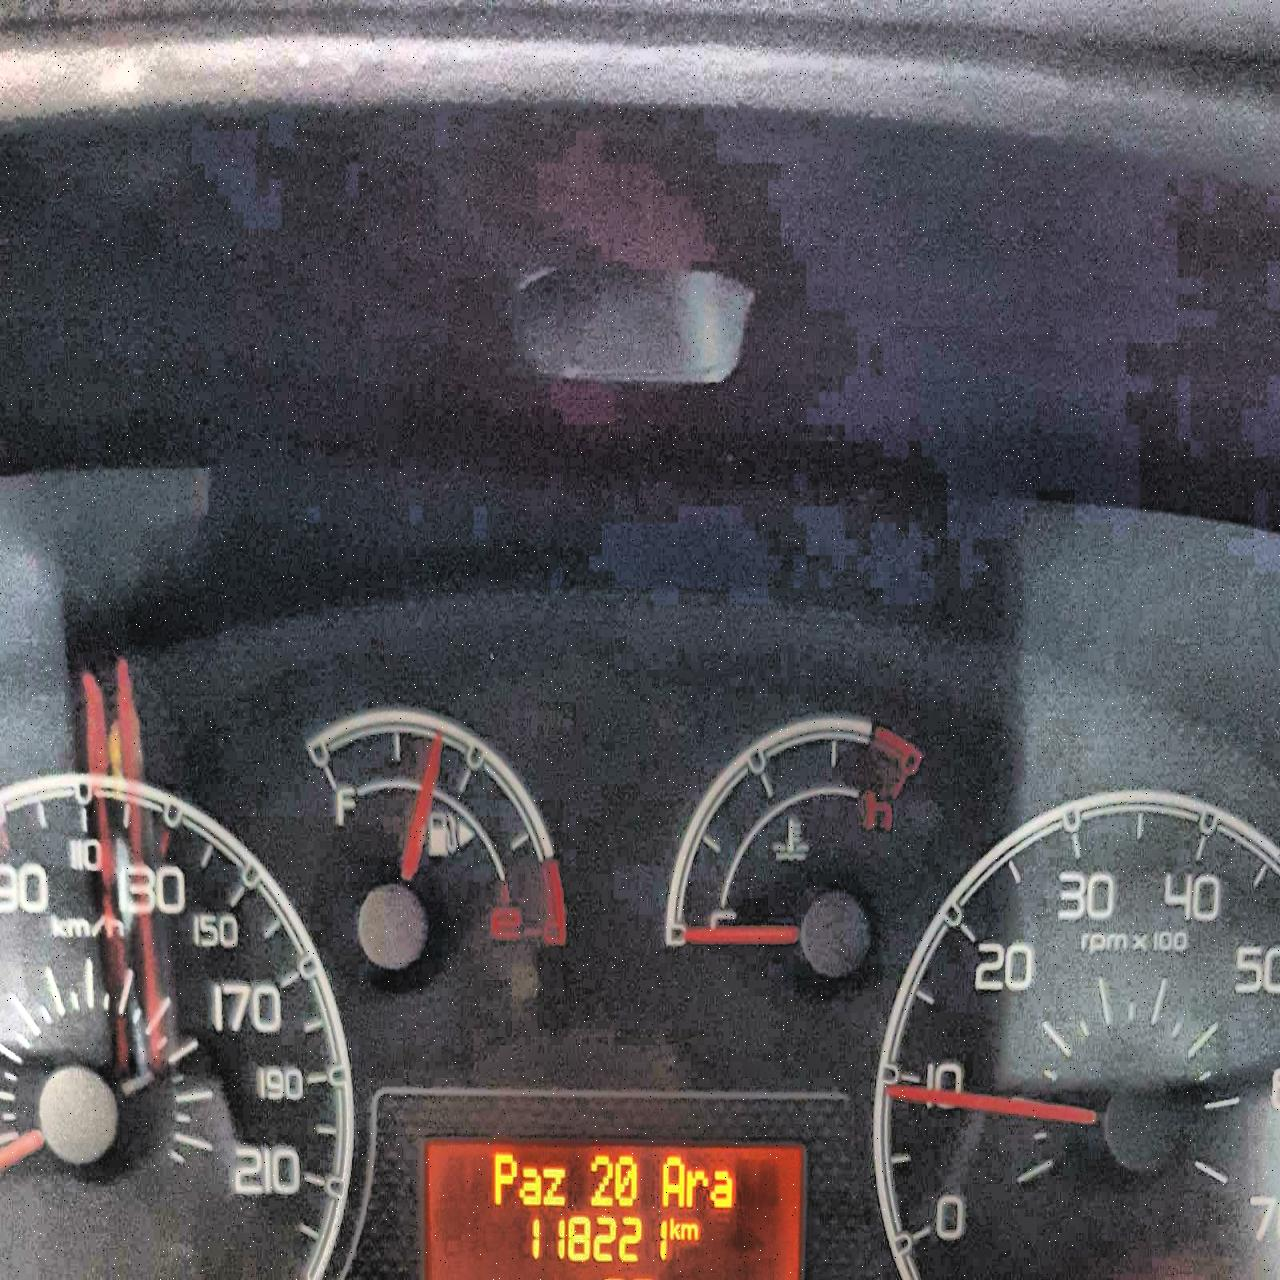0: (614, 1152, 639, 1207)
1: (530, 1211, 543, 1264), (553, 1213, 565, 1261), (659, 1217, 668, 1265)
2: (590, 1151, 613, 1207), (593, 1213, 617, 1261), (619, 1214, 641, 1264)
8: (567, 1212, 591, 1264)
X: (492, 1151, 516, 1205), (660, 1156, 683, 1208), (517, 1162, 540, 1205), (542, 1164, 565, 1206), (712, 1167, 731, 1208), (686, 1167, 706, 1207), (681, 1220, 700, 1241), (669, 1216, 681, 1240)
odometer: (421, 1132, 810, 1279)
